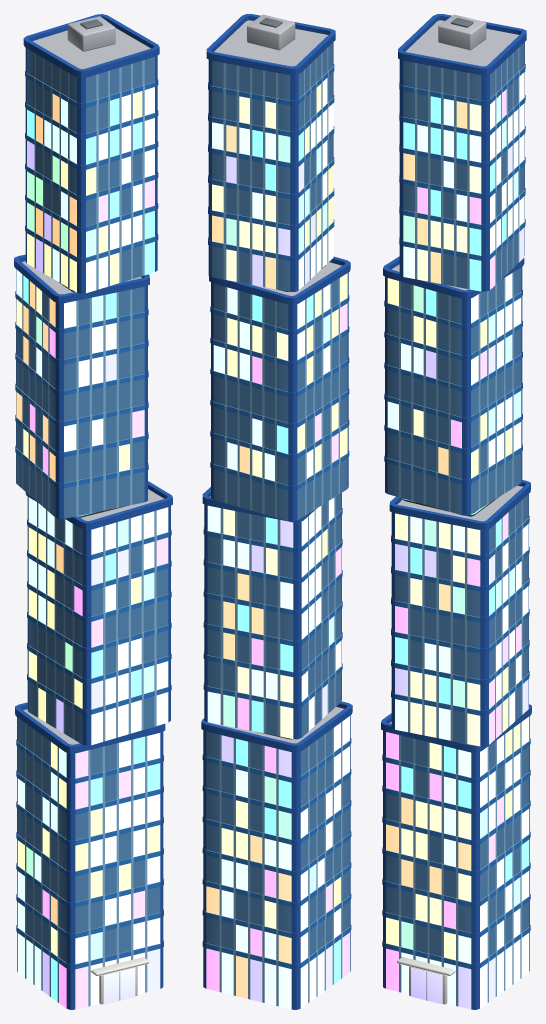
Rendered from arranha_ceu_blocos.glb.
The picture shows the model from 3 angles, left to right: view 1: azimuth 30°, elevation 25°; view 2: azimuth 150°, elevation 25°; view 3: azimuth 330°, elevation 25°; orthographic projection.
Visible parts, largest first — view 1: arranha_ceu_blocos; view 2: arranha_ceu_blocos; view 3: arranha_ceu_blocos.
Part boxes in pixels (x1,y1,x2,y2): arranha_ceu_blocos: (14, 14, 172, 1009); arranha_ceu_blocos: (201, 14, 352, 1009); arranha_ceu_blocos: (381, 14, 531, 1009).
Bounding box in the file's own units: 12.11 × 98.6 × 11.96.
11 materials, 1 textured.
